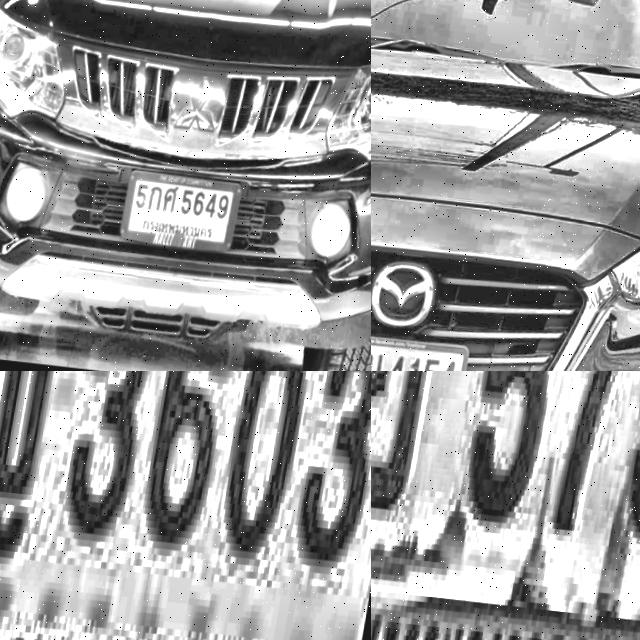license-plate: (0, 371, 371, 640), (371, 371, 640, 640), (126, 169, 251, 253), (371, 327, 478, 371)
